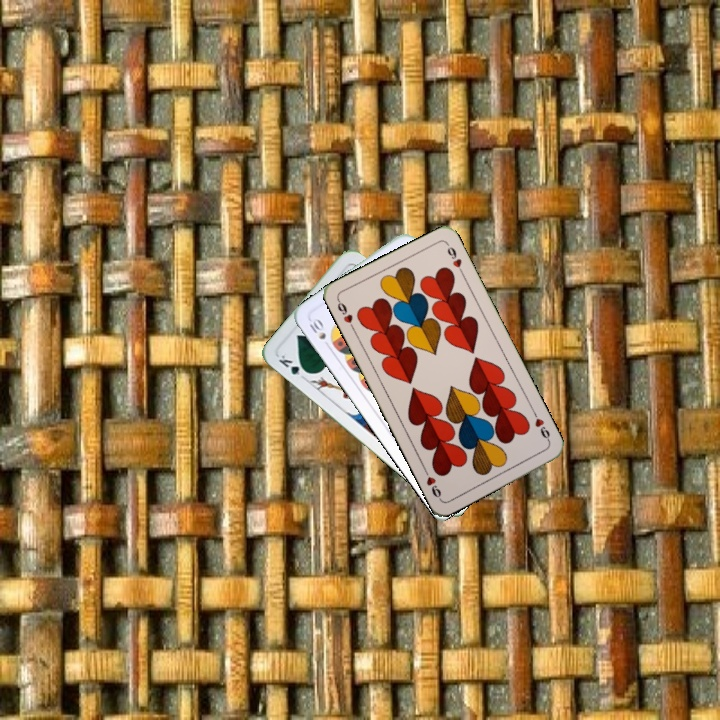GK: (274, 349, 311, 379)
H9: (529, 407, 553, 446), (333, 296, 357, 334)
S10: (305, 314, 333, 351)
